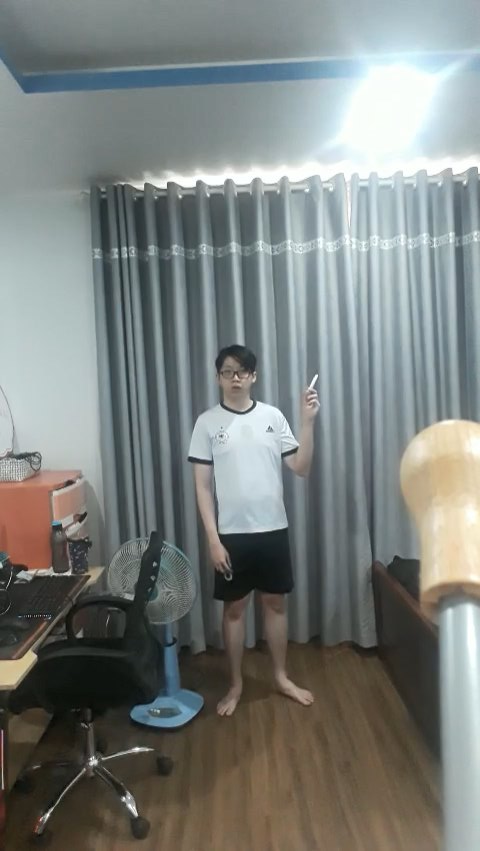cigarette: (307, 373, 320, 389)
person: (184, 343, 321, 725)
